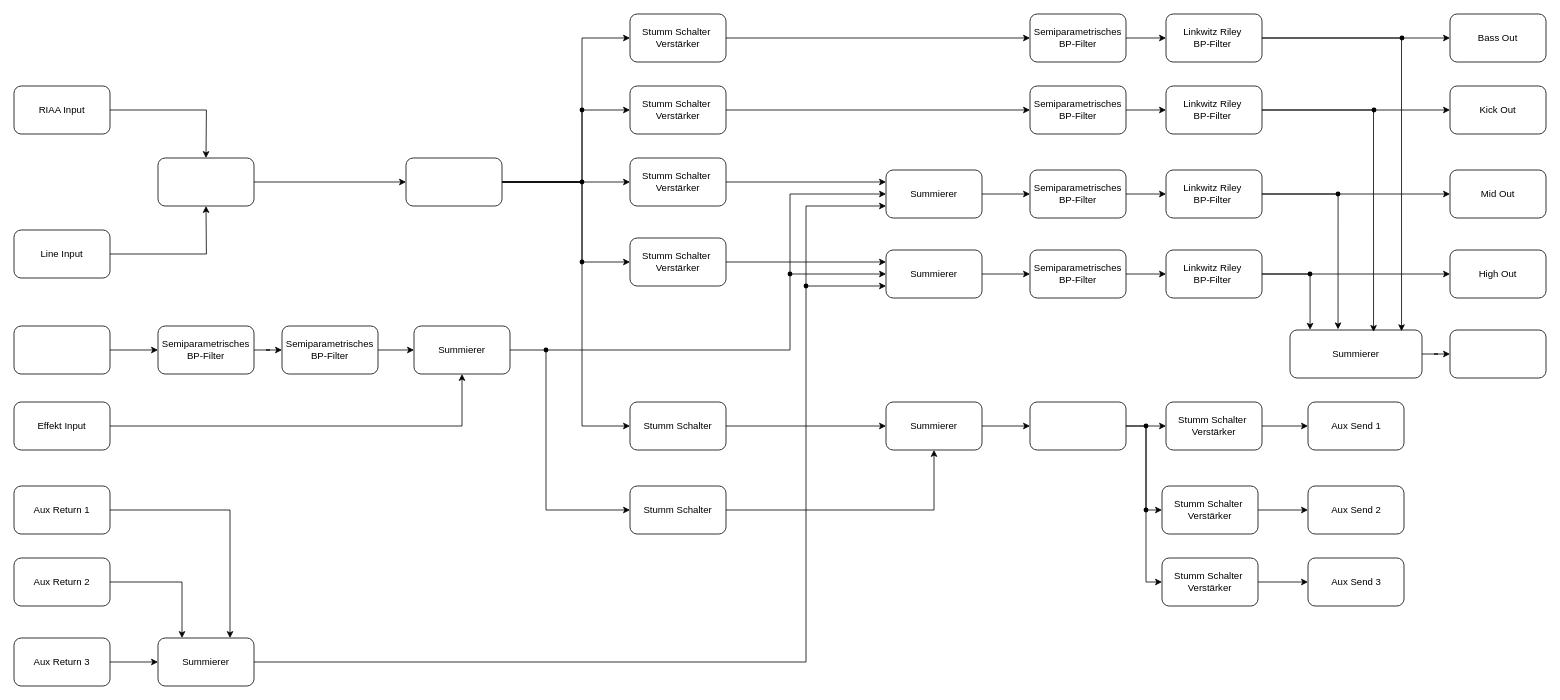
The diagram is 1560 pixels wide and 700 high, and some of its shapes have lost their labels. The shapes that lost their labels are listed below. From the top down, each one's centre as x and y in pixels, then its label:
the point at 205,181: Wahl Schalte
the point at 453,181: Verstärker
the point at 61,349: Mic Input
the point at 1497,353: Line Out
the point at 1077,425: Semiparametrisches HP-Filter
